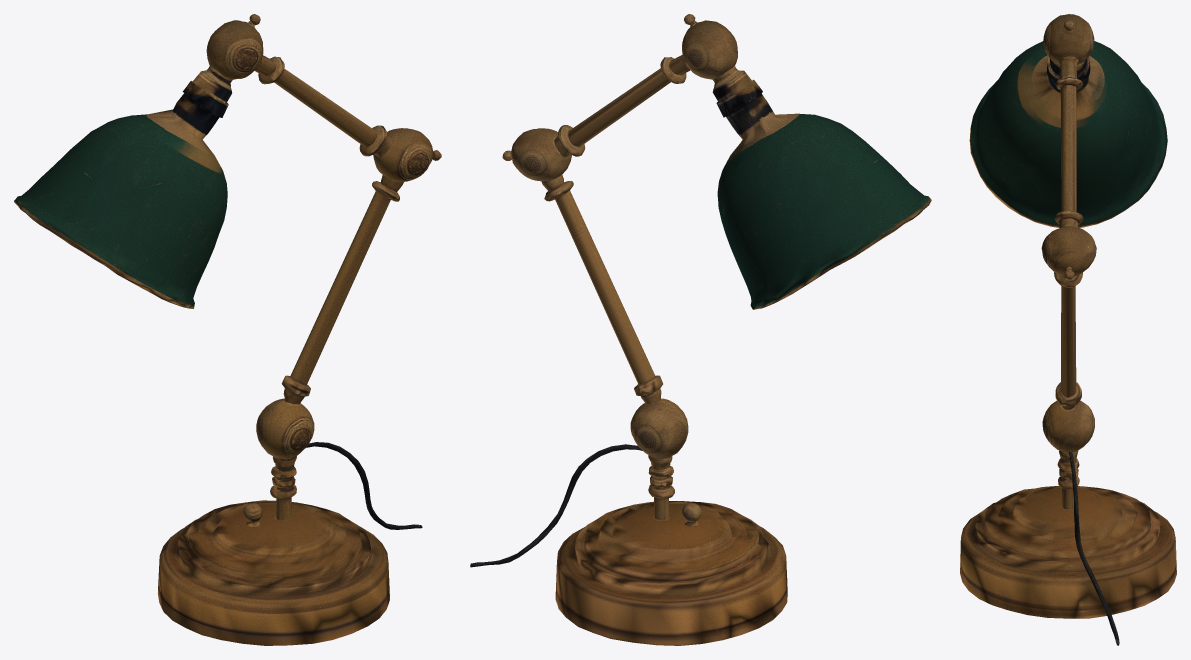
Rendered from DeskLamp.fbx.
3 renders of one model, left to right at view 1: azimuth 30°, elevation 25°; view 2: azimuth 150°, elevation 25°; view 3: azimuth 270°, elevation 25°, orthographic. The views are drawn at different scales.
Parts seen in each view (by area): view 1: Mesh_0; view 2: Mesh_0; view 3: Mesh_0.
Part boxes in pixels (x1,y1,x2,y2): Mesh_0: (14,14,441,645); Mesh_0: (470,14,931,645); Mesh_0: (960,14,1176,645).
Size of the model in its own units: 74.37 by 99.61 by 36.
1 material, 1 textured.
